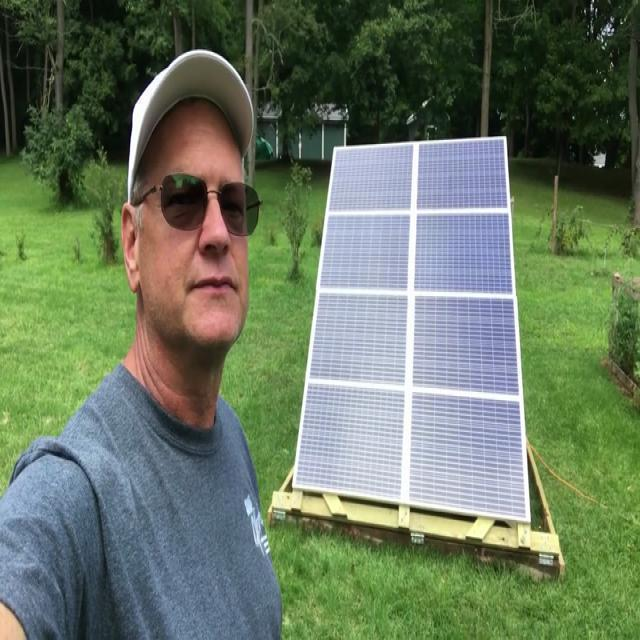Normal Solar Panel: (292, 136, 530, 524)
